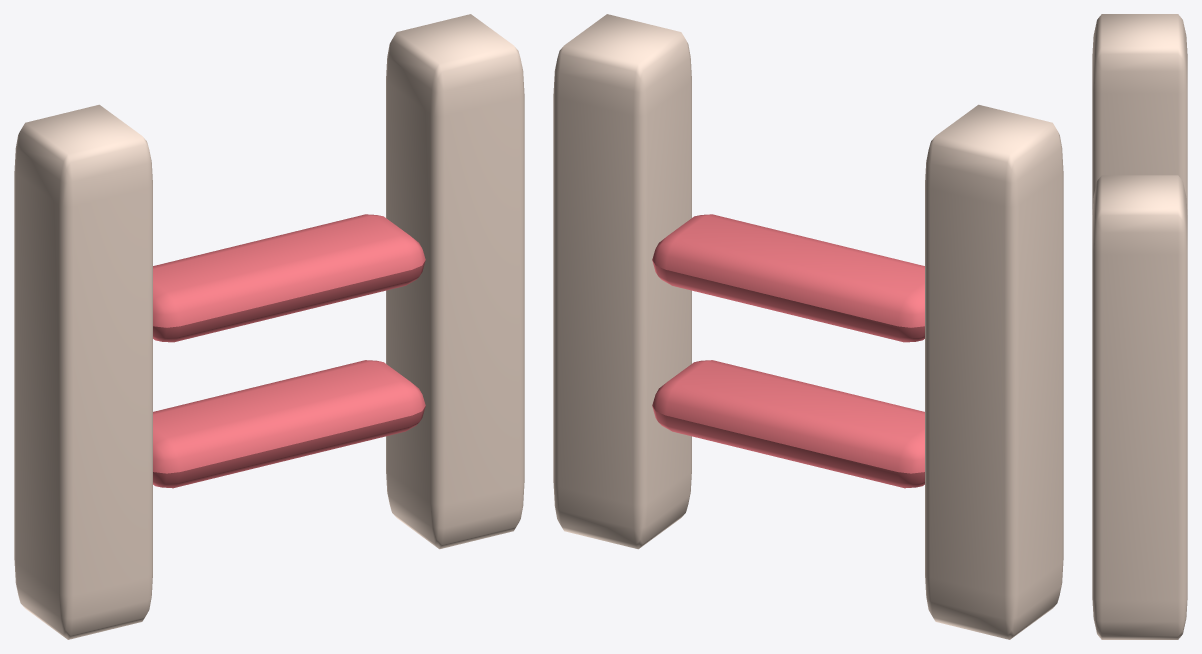
The model's file is Props_Conveyor_Pink_Holder_02.fbx.
3 renders of one model, left to right at view 1: azimuth 30°, elevation 25°; view 2: azimuth 150°, elevation 25°; view 3: azimuth 270°, elevation 25°, orthographic. The views are drawn at different scales.
Parts seen in each view (by area): view 1: Props_Conveyor_Pink_Holder_02; view 2: Props_Conveyor_Pink_Holder_02; view 3: Props_Conveyor_Pink_Holder_02.
Boxes of the visible parts, x1=… form: Props_Conveyor_Pink_Holder_02: x1=14, y1=14, x2=524, y2=639; Props_Conveyor_Pink_Holder_02: x1=553, y1=14, x2=1063, y2=639; Props_Conveyor_Pink_Holder_02: x1=1092, y1=14, x2=1187, y2=639.
Bounding box in the file's own units: 50 × 50 × 10.
